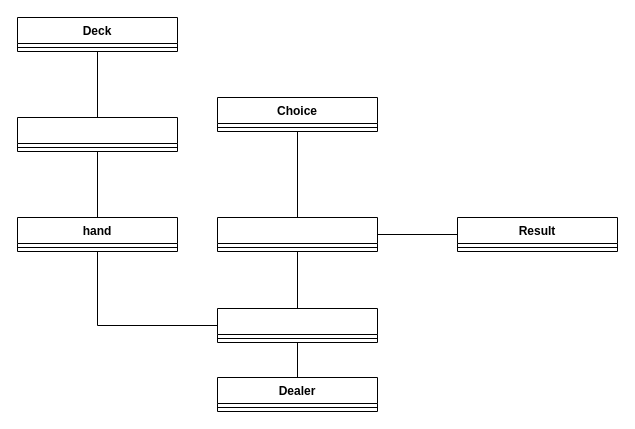
Image size: 635x429. Some labels were removed from this diagram. The centre of each missing label's shape, as x and y in pixels:
blackjackGame: (x=297, y=234)
Card: (x=97, y=134)
Player: (x=297, y=325)
